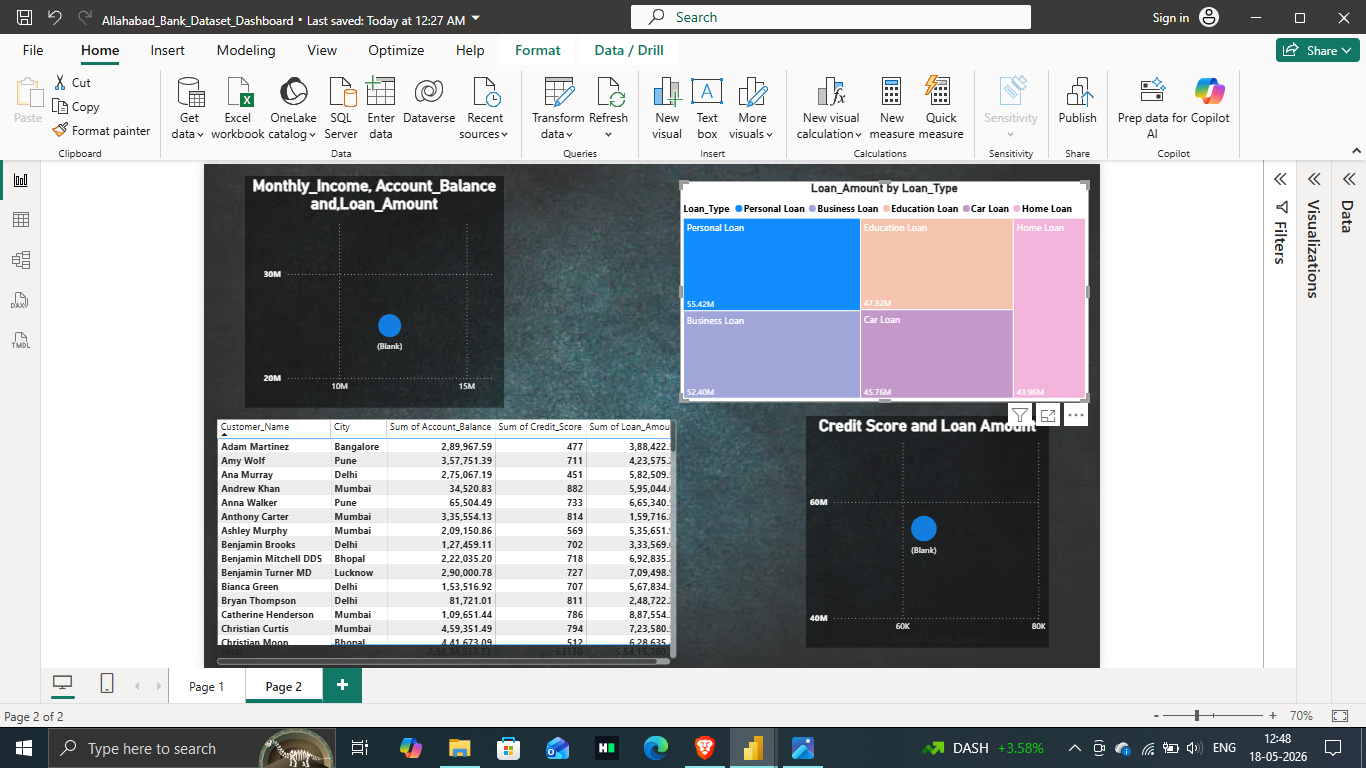

Layout of this report page (visuals, bound fields, positions):
{"tool":"powerbi","page":{"name":"Page 2","canvas":[1280,720],"ordinal":1},"visuals":[{"type":"scatterChart","title":"Monthly_Income, Account_Balance and,Loan_Amount","fields":{"X":["Sum(BankData.Monthly_Income)"],"Y":["Sum(BankData.Account_Balance)"],"Size":["Sum(BankData.Loan_Amount)"]},"box":[13.3,0,370,331.7],"z":0},{"type":"scatterChart","title":"Credit Score and Loan Amount","fields":{"Size":["Sum(BankData.Loan_Amount)"],"X":["Sum(BankData.Credit_Score)"],"Y":["Sum(BankData.Loan_Amount)"]},"box":[870,388.3,346.7,331.7],"z":1},{"type":"treemap","title":"Loan_Amount by Loan_Type","fields":{"Values":["Sum(BankData.Loan_Amount)"],"Group":["BankData.Loan_Type"]},"box":[670,16.7,560,300],"z":2},{"type":"tableEx","fields":{"Values":["BankData.Customer_Name","BankData.City","Sum(BankData.Account_Balance)","Sum(BankData.Credit_Score)","Sum(BankData.Loan_Amount)"]},"box":[13.3,420,656.7,300],"z":3}]}

Visuals, with their boxes on the page's 1280x720 design canvas (x1, y1, x2, y2). These are canvas units, not pixel positions in the 1366x768 screenshot, which may show the page scaled, cropped or inside an application window:
"Monthly_Income, Account_Balance and,Loan_Amount" scatterChart: left=13, top=0, right=383, bottom=332
"Credit Score and Loan Amount" scatterChart: left=870, top=388, right=1217, bottom=720
"Loan_Amount by Loan_Type" treemap: left=670, top=17, right=1230, bottom=317
tableEx - BankData.Customer_Name x BankData.City: left=13, top=420, right=670, bottom=720
